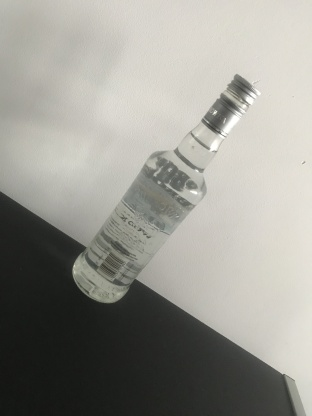nakretka: (200, 71, 262, 140)
